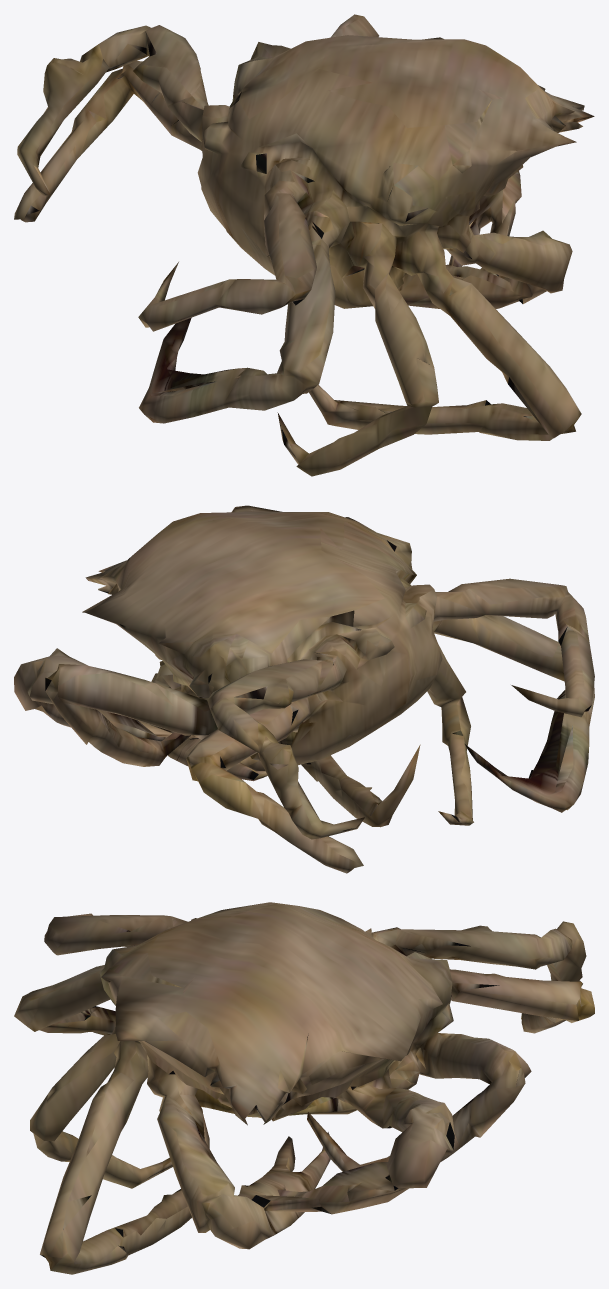
File: scan_crab_kelp.glb
3 renders of one model, top to bottom at view 1: azimuth 30°, elevation 25°; view 2: azimuth 150°, elevation 25°; view 3: azimuth 270°, elevation 25°, orthographic. The views are drawn at different scales.
Visible parts, largest first — view 1: scan_crab_kelp; view 2: scan_crab_kelp; view 3: scan_crab_kelp.
Boxes of the visible parts, <box> form: scan_crab_kelp: <box>14,14,594,476</box>; scan_crab_kelp: <box>14,505,594,873</box>; scan_crab_kelp: <box>14,902,594,1274</box>.
Bounding box in the file's own units: 0.15 × 0.0986 × 0.1586.
Materials: 1 (1 with a texture image).
